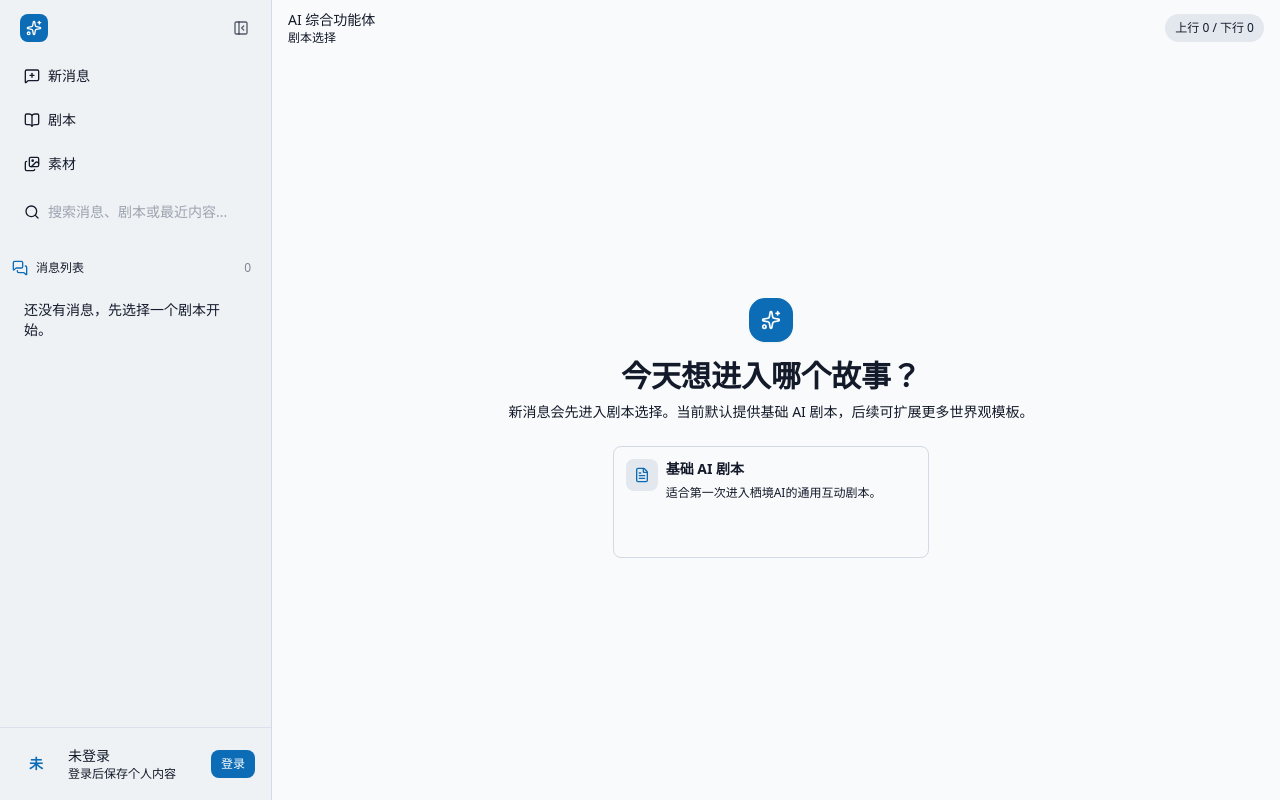
Test: HomeWorkspace script manager › opens the login dialog when an anonymous user starts a protected action
Click the button with aria-label "使用 基础 AI 剧本 剧本". click: (771, 502)
box: [613,446,929,558]
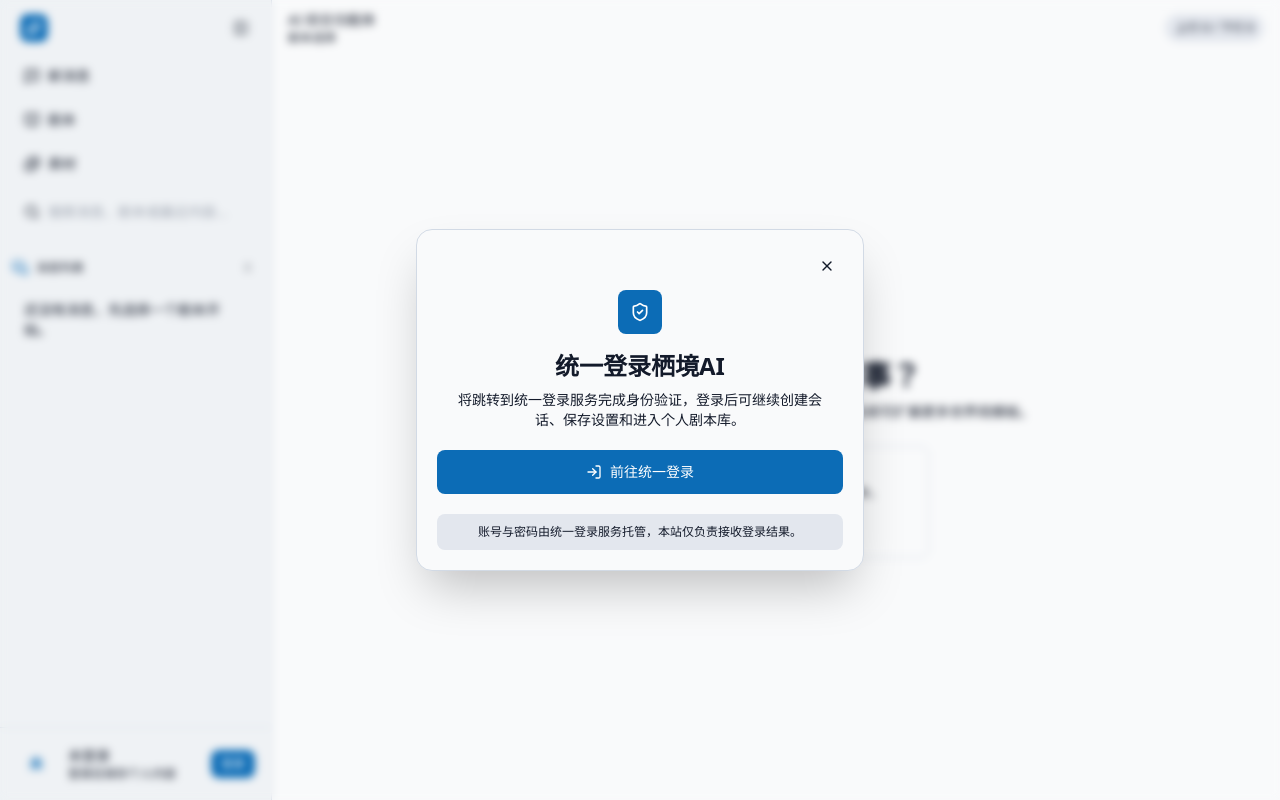
Expected: the heading "统一登录栖境AI" is shown, [555,349,725,382]
Expected: the button "前往统一登录" is shown, [437,450,843,494]
